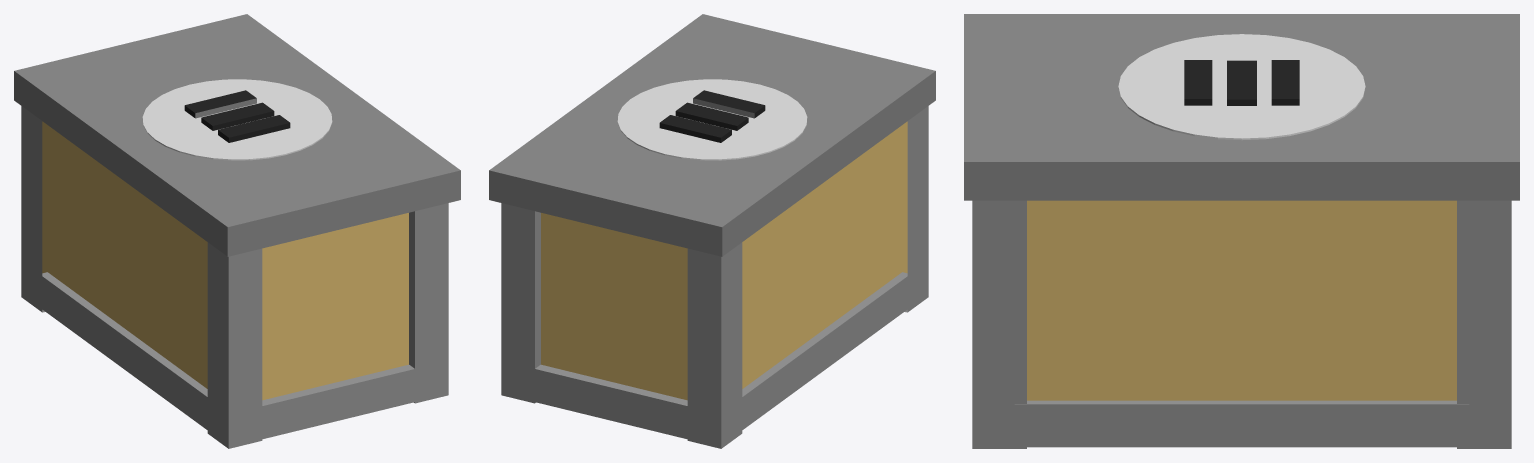
The model's file is mediumammo.fbx.
3 views of the same model, side by side, from view 1: azimuth 30°, elevation 25°; view 2: azimuth 150°, elevation 25°; view 3: azimuth 270°, elevation 25° (orthographic). The views are drawn at different scales.
Parts seen in each view (by area): view 1: Cube; view 2: Cube; view 3: Cube.
Boxes of the visible parts, x1,y1,x2,y2 form: Cube: (14,14,460,448); Cube: (489,14,935,448); Cube: (964,14,1519,448).
Size of the model in its own units: 200 by 190 by 318.
